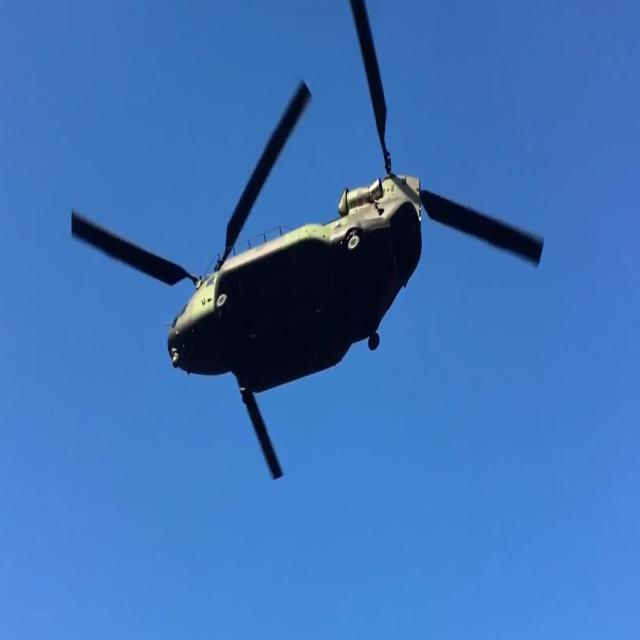Helicopter: (97, 95, 509, 435)
